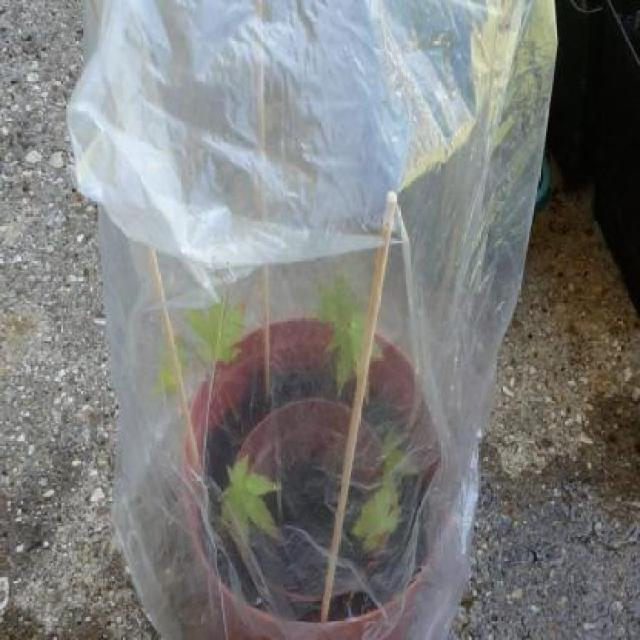plastic bag: (65, 0, 558, 639)
